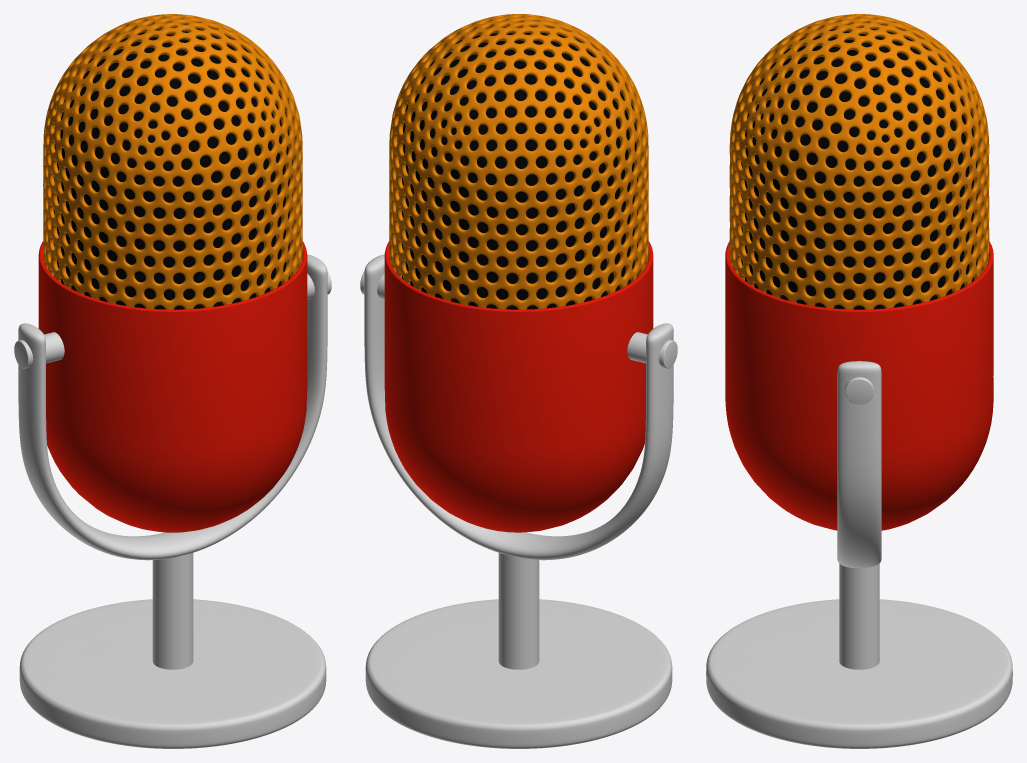
Rendered from mic.glb.
The picture shows the model from 3 angles, left to right: view 1: azimuth 30°, elevation 25°; view 2: azimuth 150°, elevation 25°; view 3: azimuth 270°, elevation 25°; orthographic projection.
Parts seen in each view (by area): view 1: Mic-Stand.001; view 2: Mic-Stand.001; view 3: Mic-Stand.001.
Part boxes in pixels (left/top/right/bottom): Mic-Stand.001: left=14, top=14, right=331, bottom=748; Mic-Stand.001: left=360, top=14, right=677, bottom=748; Mic-Stand.001: left=706, top=14, right=1012, bottom=748.
Bounding box in the file's own units: 0.8953 × 1.86 × 0.7821.
